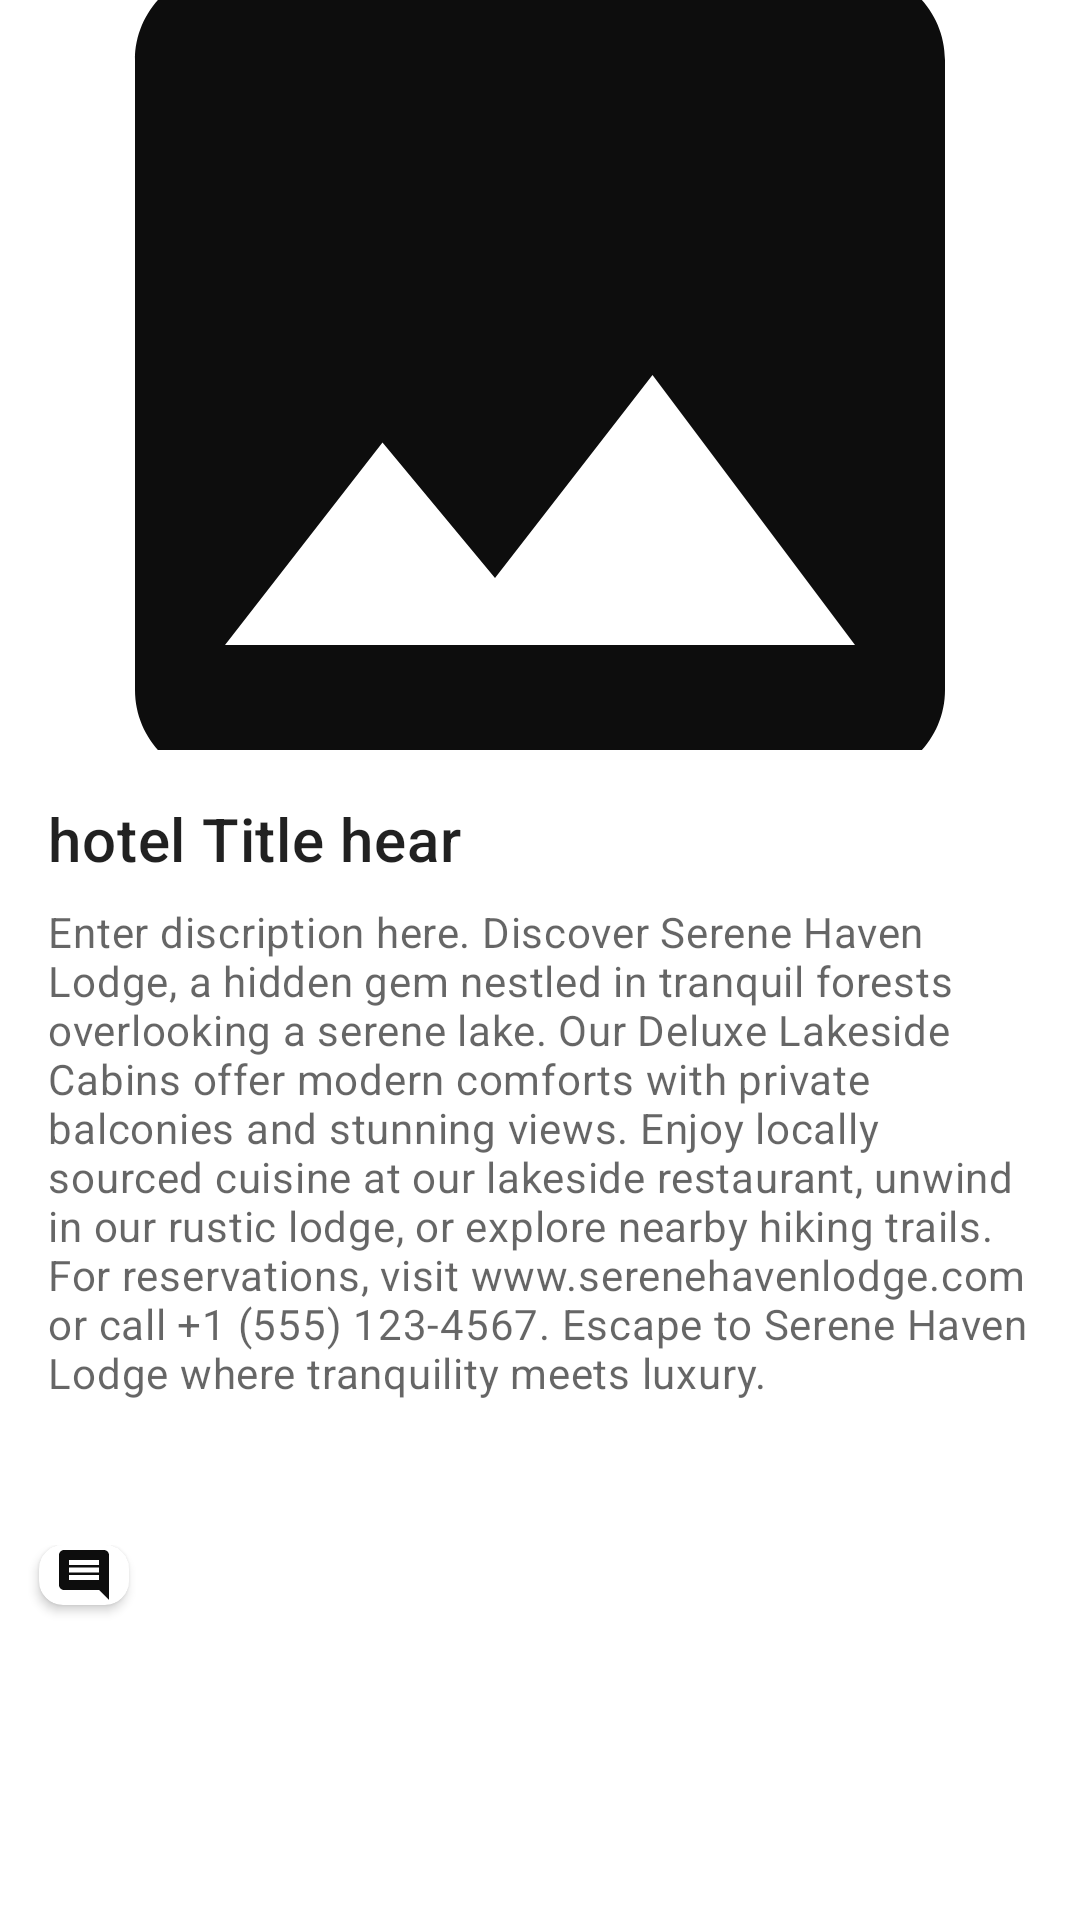

Locate icon controls on the screen. Image size 1080×1920, boxes as [x1,y1,x2,y2].
comment: [39,1550,127,1605]
